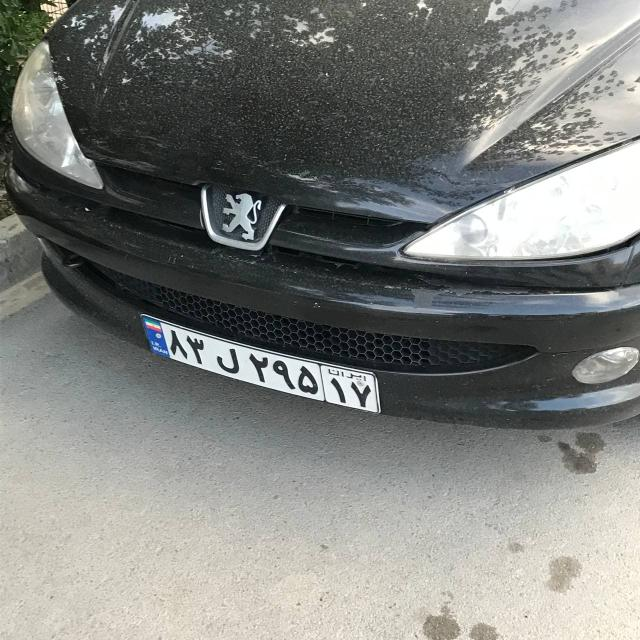Plates: (131, 314, 388, 413)
